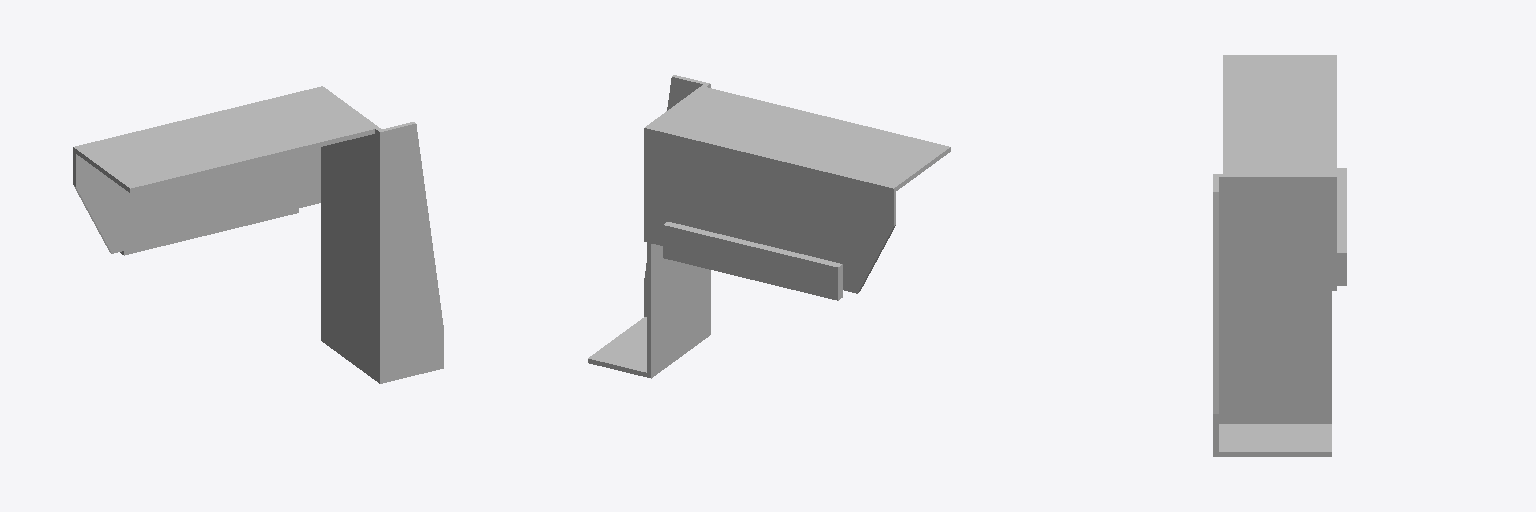
File: a2_cut_schlepp_3_1.obj
3 views of the same model, side by side, from view 1: azimuth 30°, elevation 25°; view 2: azimuth 150°, elevation 25°; view 3: azimuth 270°, elevation 25° (orthographic).
Visible parts, largest first — view 1: 0; view 2: 0; view 3: 0.
Boxes of the visible parts, x1,y1,x2,y2 form: 0: [73, 86, 443, 383]; 0: [588, 75, 950, 378]; 0: [1213, 55, 1346, 456].
Size of the model in its own units: 340 by 265 by 127.